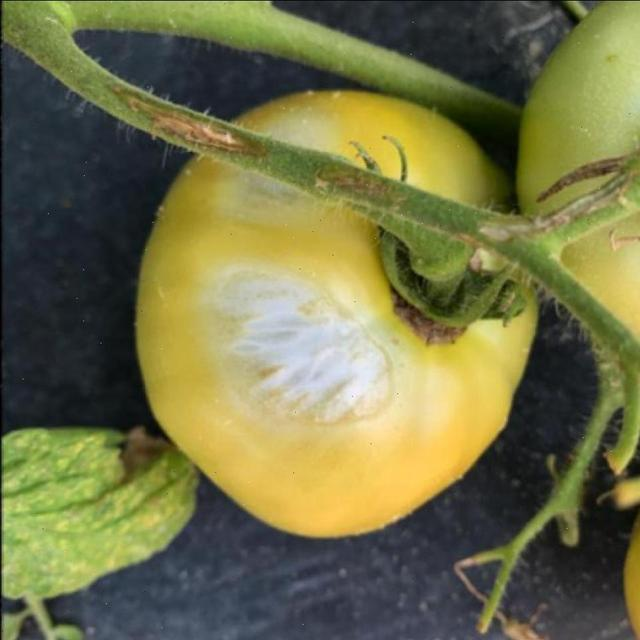Sunscald Fruit: (86, 60, 200, 224)
